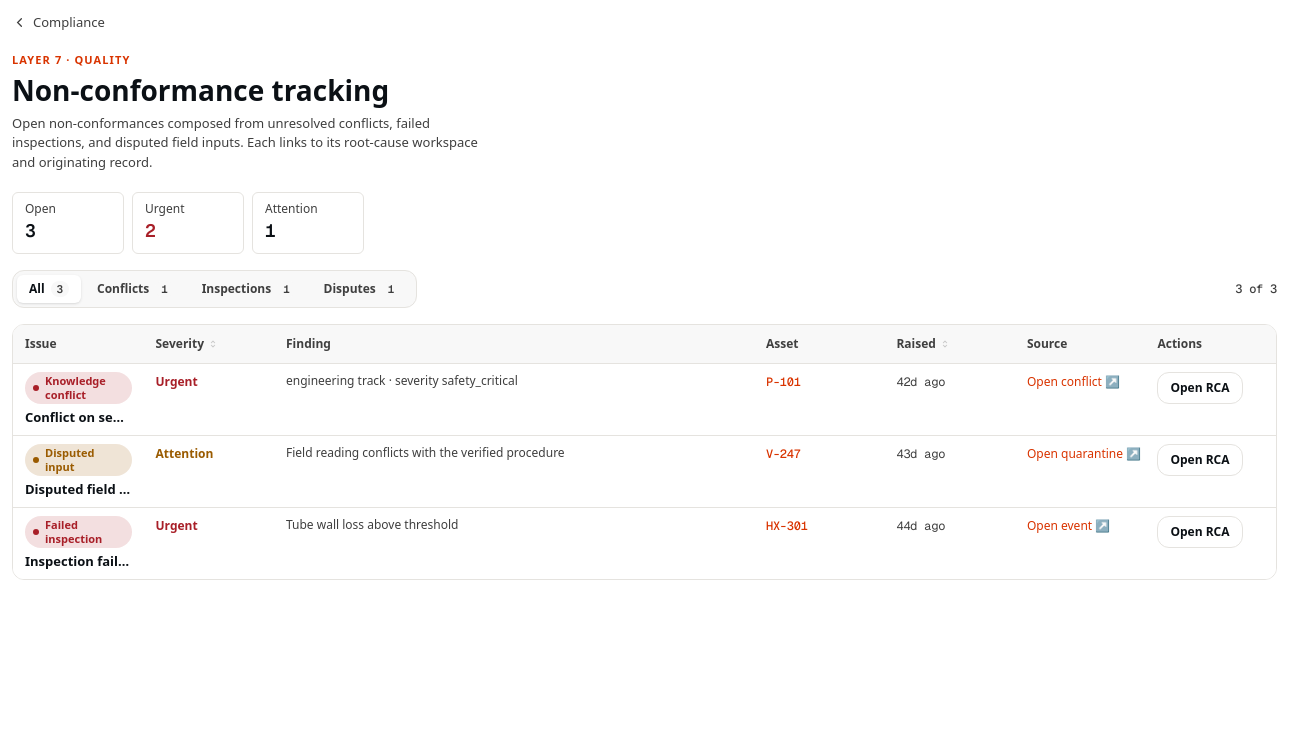
Test case: NonConformancePage › composes sources into pills, filters by source, and links to RCA
Expected: the text "Conflict on seal pressure" is shown, [25,408,132,427]
Expected: the element with test id "nonconformance-summary" shows "Urgent", [145,200,184,217]
Click the button "Inspections 1".
click(249, 289)  # box [190,275,308,303]
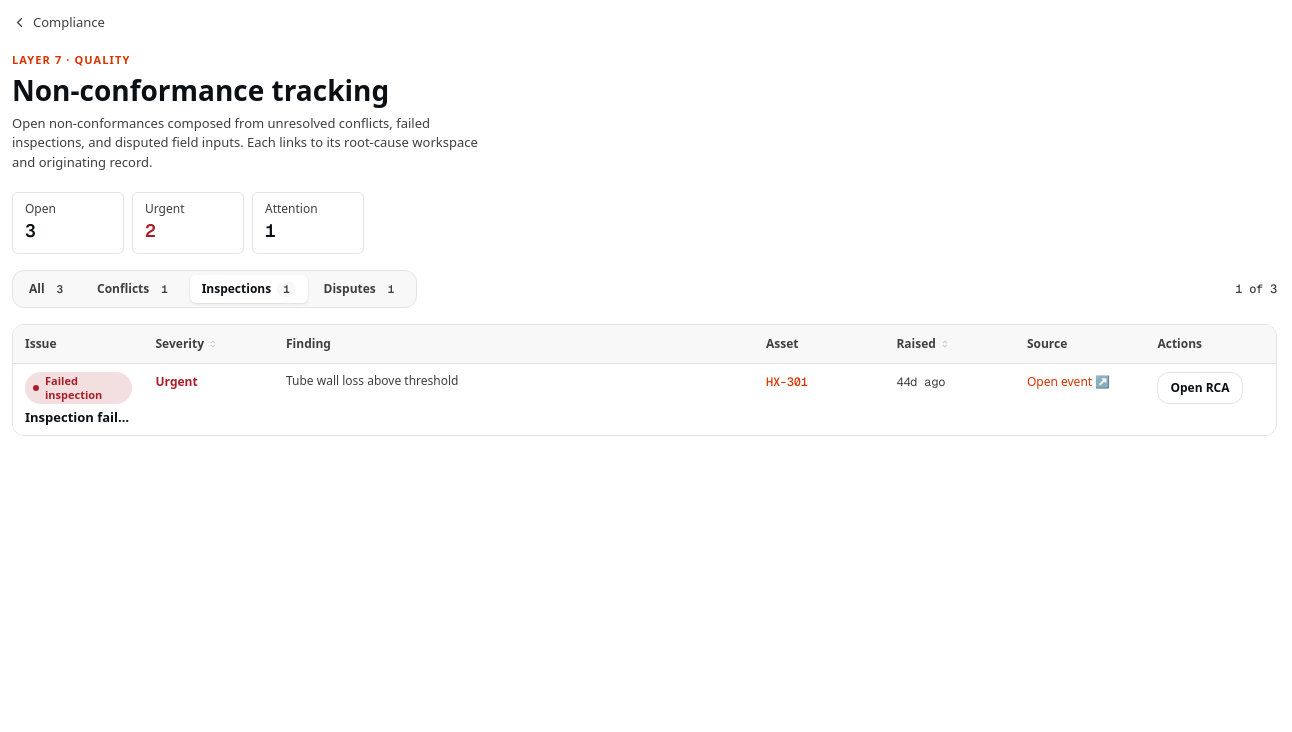
Expected: the text "Inspection failed" is shown, [25,408,132,427]
Expected: the text "Conflict on seal pressure" is gone
